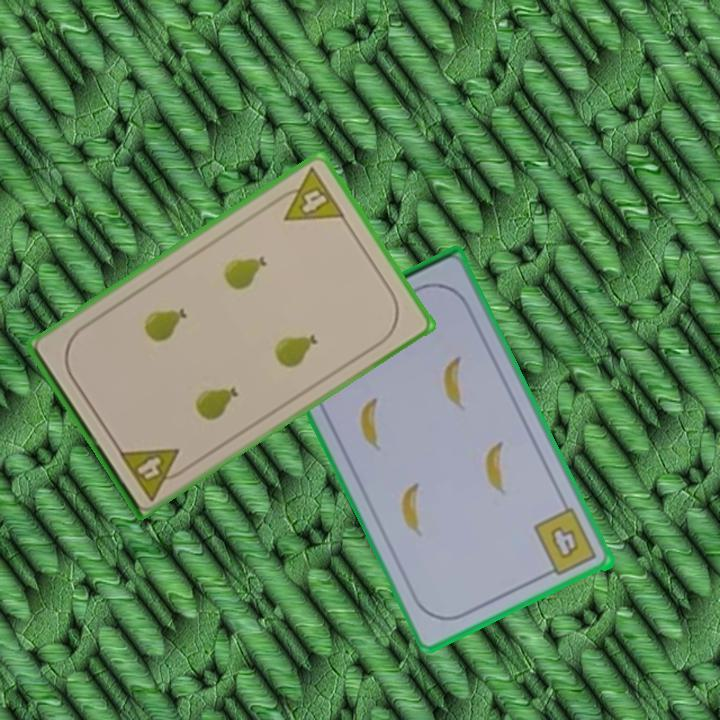4b: (530, 505, 601, 580)
4p: (269, 164, 348, 224), (115, 443, 192, 503)
